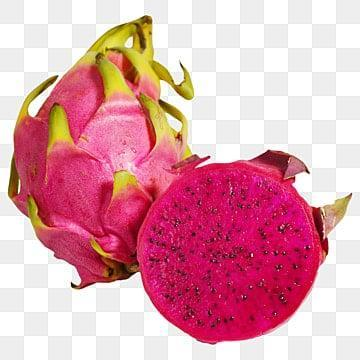dragon-fruit: (13, 50, 181, 283), (136, 162, 323, 342)
